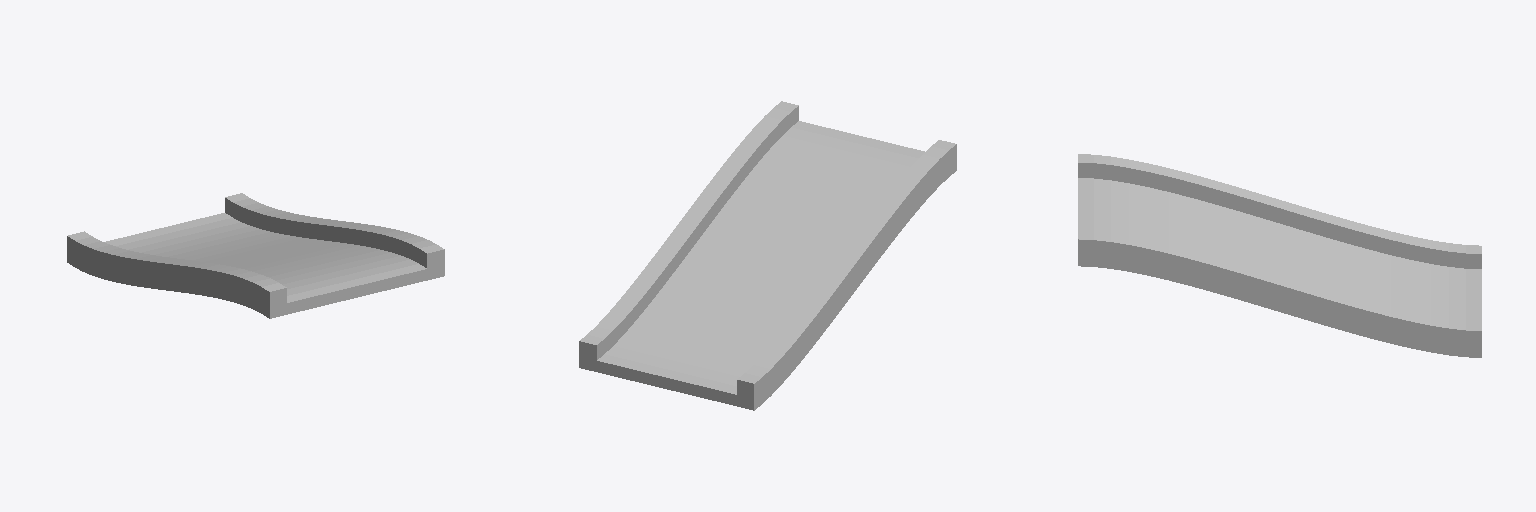
The model's file is rampLarge.obj.
The picture shows the model from 3 angles: view 1: azimuth 30°, elevation 25°; view 2: azimuth 150°, elevation 25°; view 3: azimuth 270°, elevation 25°; orthographic projection.
Parts seen in each view (by area): view 1: rampLarge; view 2: rampLarge; view 3: rampLarge.
Part boxes in pixels (left/top/right/bottom): rampLarge: left=67, top=193, right=444, bottom=318; rampLarge: left=579, top=101, right=956, bottom=410; rampLarge: left=1078, top=154, right=1481, bottom=357.
Bounding box in the file's own units: 0.9999 × 0.6467 × 2.